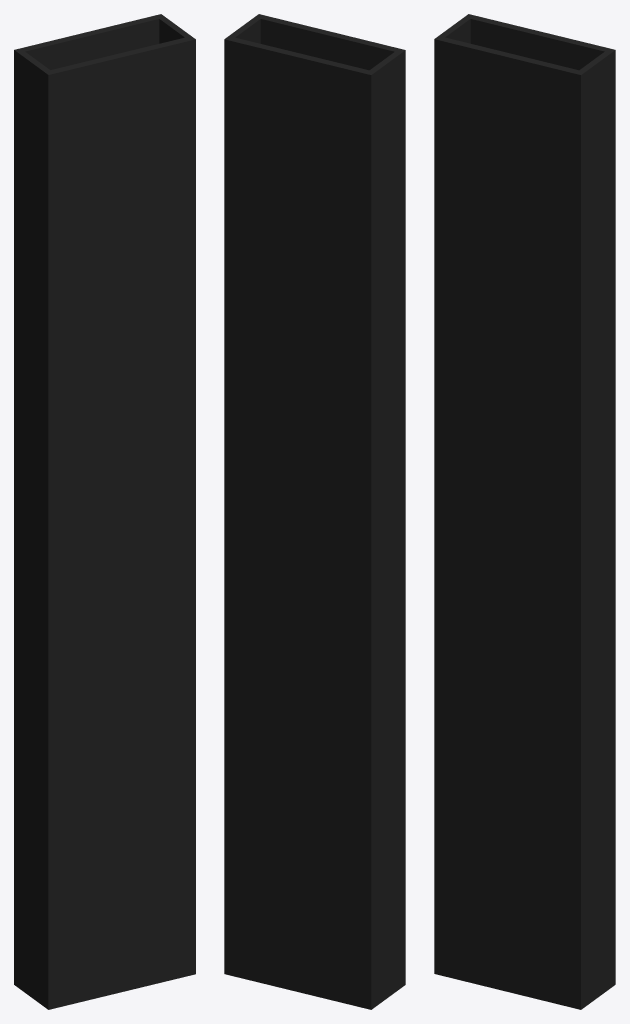
Rendered from sniper_mag_authored.obj.
3 renders of one model, left to right at view 1: azimuth 30°, elevation 25°; view 2: azimuth 150°, elevation 25°; view 3: azimuth 330°, elevation 25°, orthographic.
Visible parts, largest first — view 1: Magazine; view 2: Magazine; view 3: Magazine.
Boxes of the visible parts, x1=… form: Magazine: x1=14, y1=14, x2=195, y2=1009; Magazine: x1=224, y1=14, x2=405, y2=1009; Magazine: x1=434, y1=14, x2=615, y2=1009.
Bounding box in the file's own units: 0.8485 × 5.15 × 0.3456.
1 material, 1 textured.
